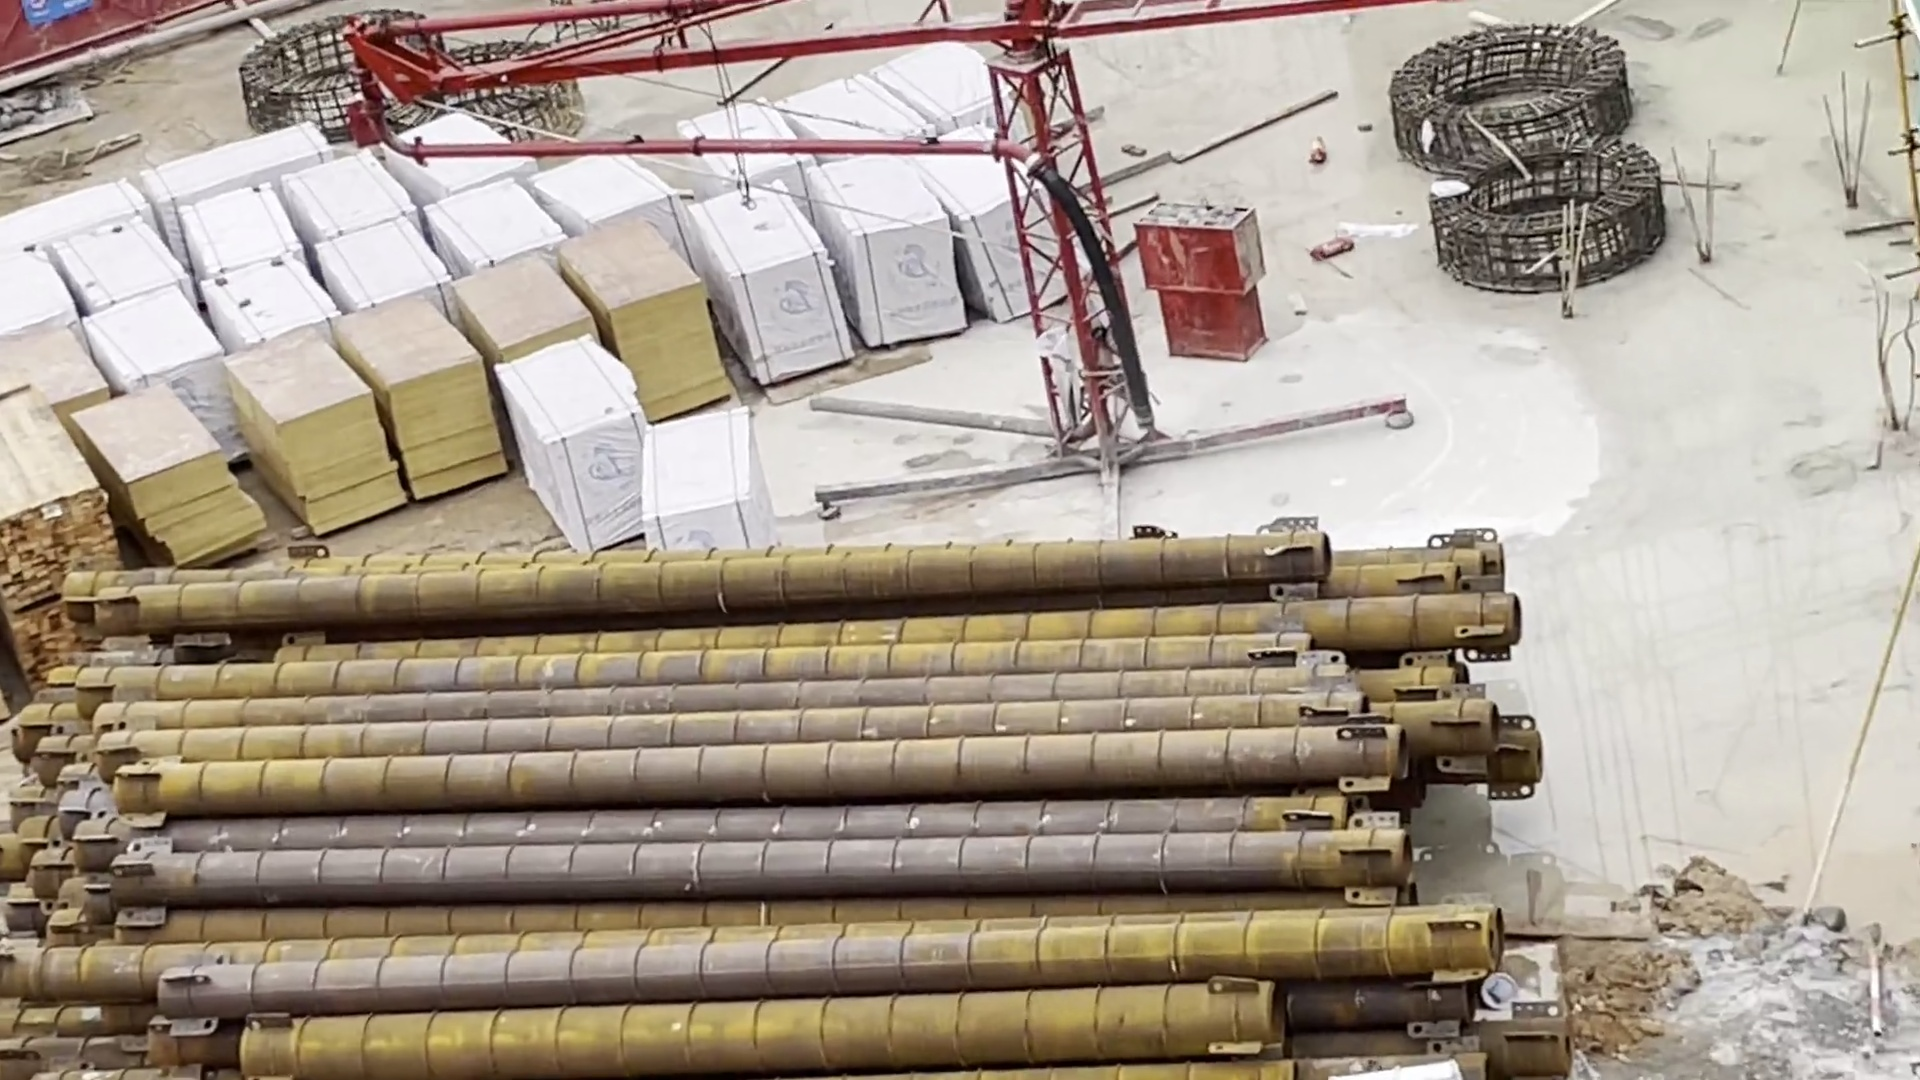board: (345, 224, 775, 469), (80, 342, 522, 549), (3, 324, 127, 414)
scaffold: (1321, 1055, 1443, 1080)
slogan: (15, 1, 111, 40)
wood: (1, 392, 117, 673)
